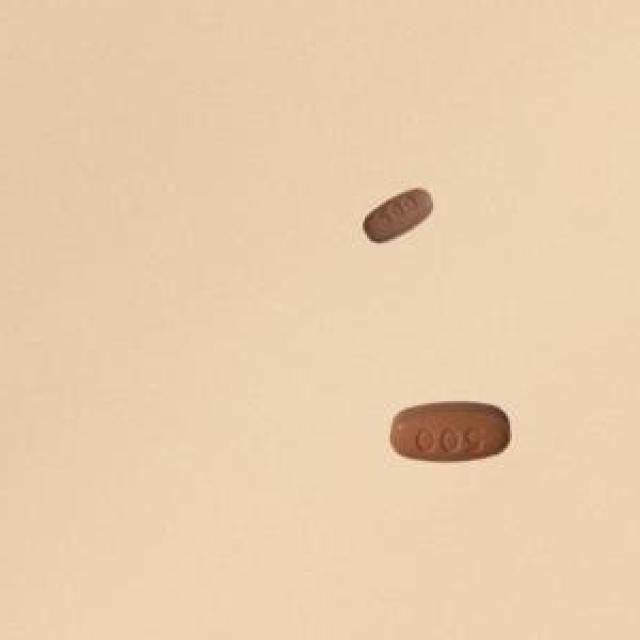Biogesic: (378, 374, 520, 482), (346, 172, 453, 260)
